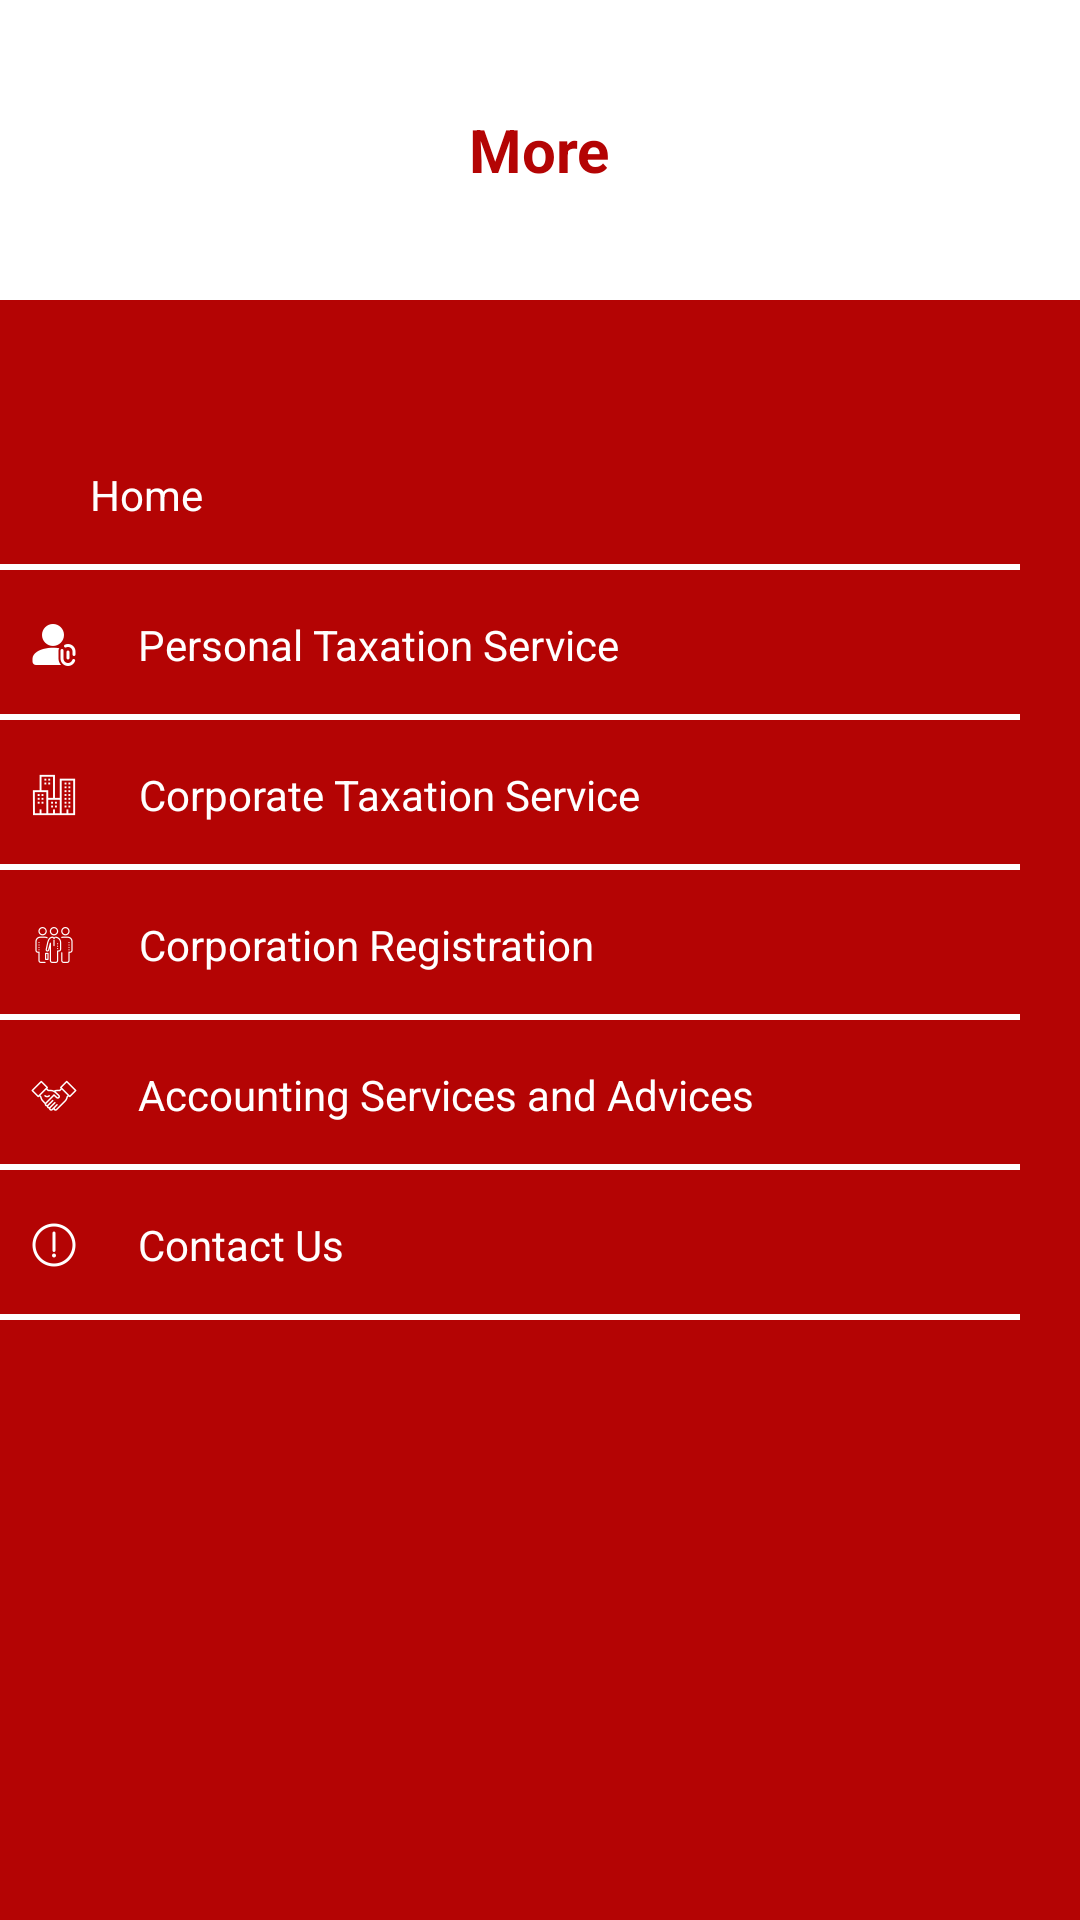

Icon click points for this 1080px x 1920px phone screenshot, format (x,y):
company: (54,795)
per: (54,645)
